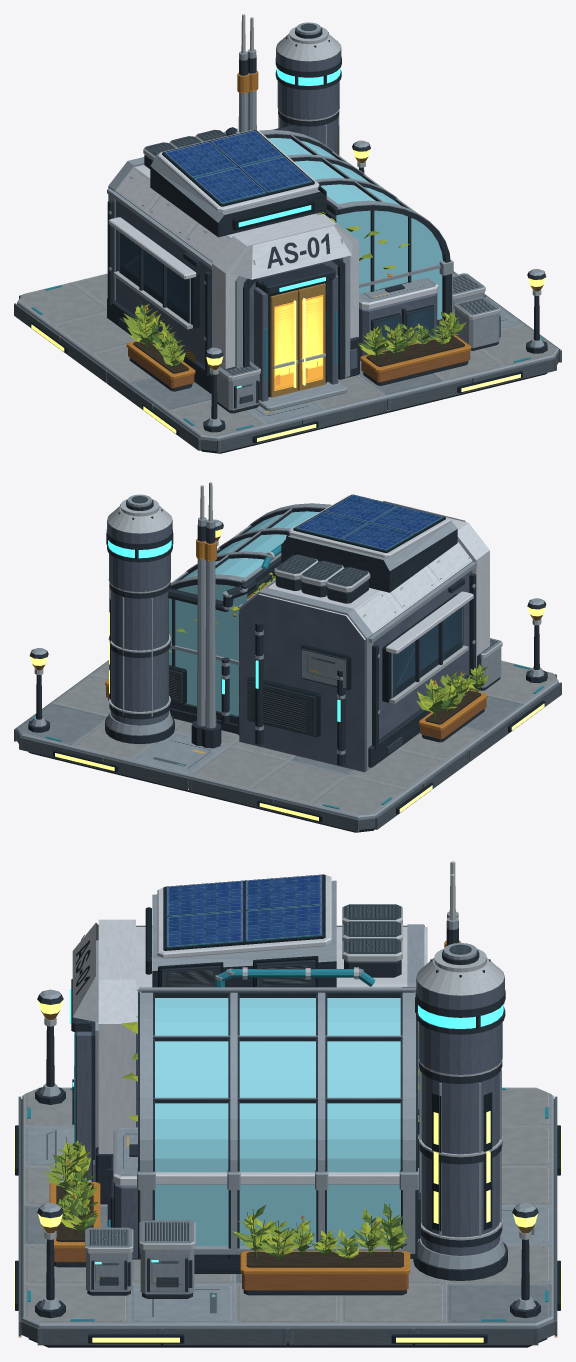
Rendered from AS01_ViviendaAutosuficiente.fbx.
3 renders of one model, top to bottom at view 1: azimuth 30°, elevation 25°; view 2: azimuth 150°, elevation 25°; view 3: azimuth 270°, elevation 25°, orthographic. The views are drawn at different scales.
Parts seen in each view (by area): view 1: AS01_Estructura, AS01_Acristalamiento; view 2: AS01_Estructura, AS01_Acristalamiento; view 3: AS01_Estructura, AS01_Acristalamiento.
Boxes of the visible parts, x1,y1,x2,y2 form: AS01_Estructura: [14, 14, 561, 453]; AS01_Acristalamiento: [268, 138, 442, 319]; AS01_Estructura: [14, 482, 561, 832]; AS01_Acristalamiento: [169, 511, 319, 715]; AS01_Estructura: [14, 861, 561, 1347]; AS01_Acristalamiento: [155, 998, 400, 1245].
Bounding box in the file's own units: 7.43 × 5.41 × 7.05.
